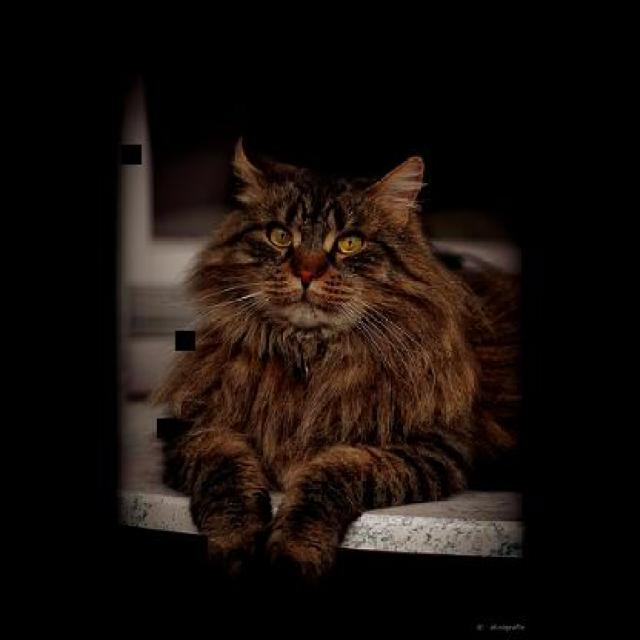unauthorized: (146, 134, 522, 583)
